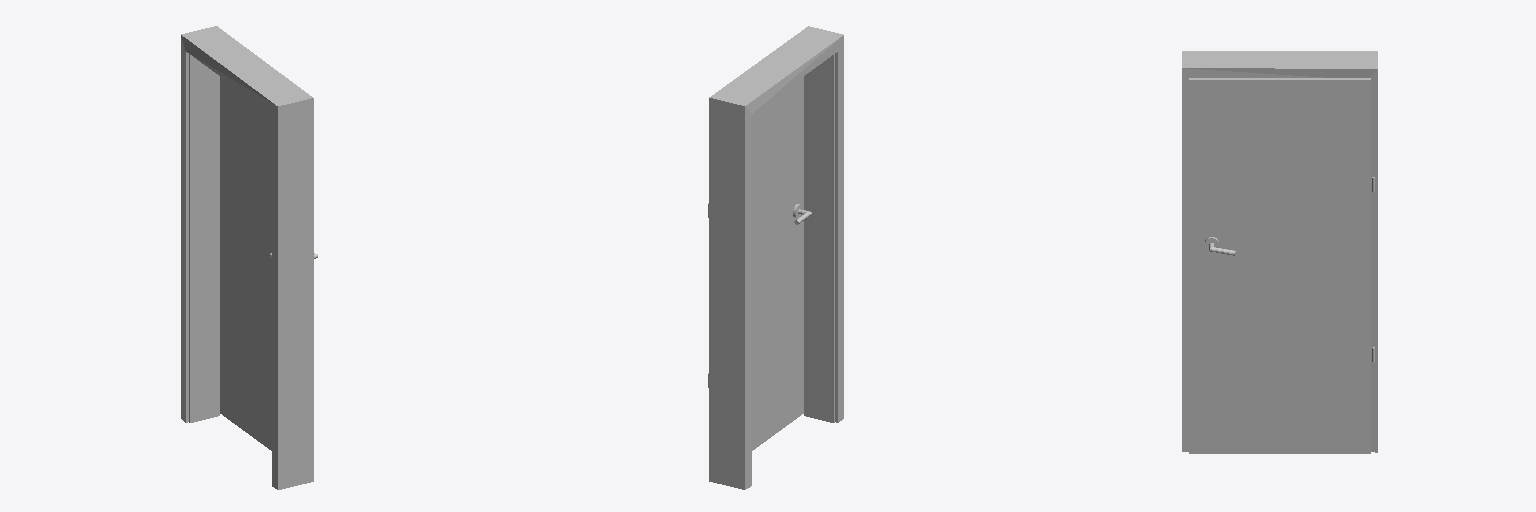
File: door27.obj
The picture shows the model from 3 angles: view 1: azimuth 30°, elevation 25°; view 2: azimuth 150°, elevation 25°; view 3: azimuth 270°, elevation 25°; orthographic projection.
Visible parts, largest first — view 1: Cylinder.005, Cylinder.001; view 2: Cylinder.005, Cylinder.001; view 3: Cylinder.001, Cylinder.005.
Part boxes in pixels (bbox=[...]): Cylinder.005: bbox=[181, 26, 313, 489]; Cylinder.001: bbox=[220, 77, 271, 450]; Cylinder.005: bbox=[708, 26, 843, 489]; Cylinder.001: bbox=[708, 77, 803, 450]; Cylinder.001: bbox=[1189, 78, 1374, 453]; Cylinder.005: bbox=[1182, 51, 1377, 452].
Size of the model in its own units: 0.3039 by 2.05 by 0.95.